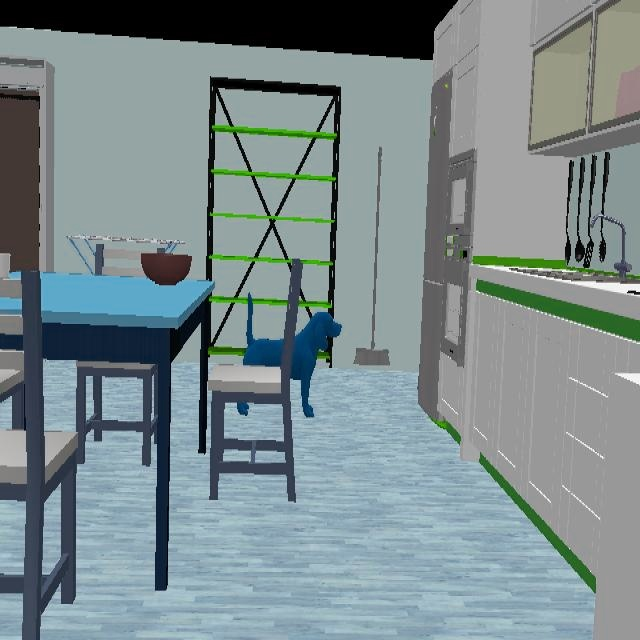cabinet: (438, 293, 640, 579), (433, 0, 637, 261)
chair: (0, 271, 79, 640), (208, 259, 303, 501)
countertop: (470, 256, 640, 343)
fridge: (418, 71, 452, 421)
sink: (507, 213, 633, 281)
table: (40, 273, 215, 592)
